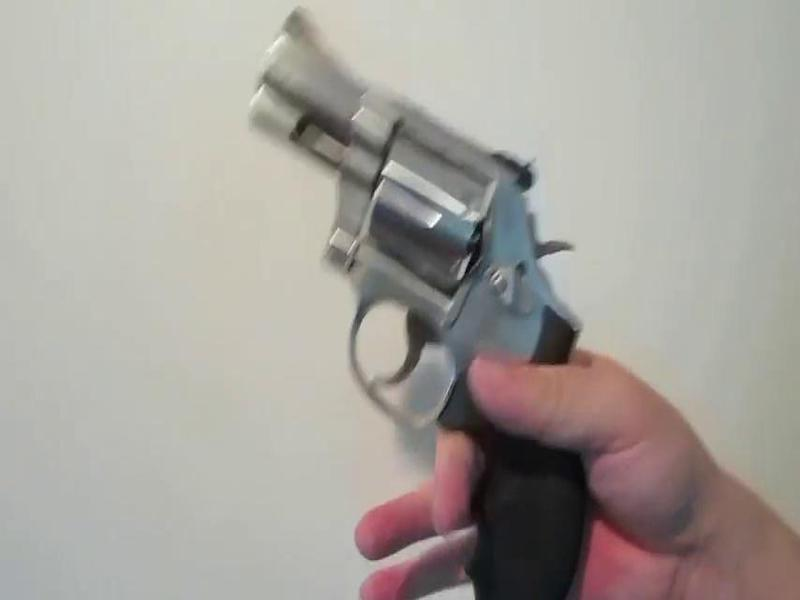Revolver: (151, 7, 666, 565)
